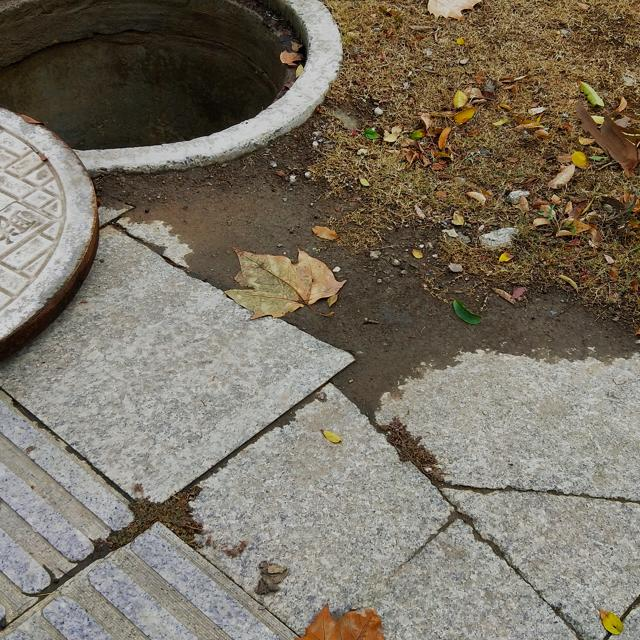uncovered: (0, 0, 337, 431)
